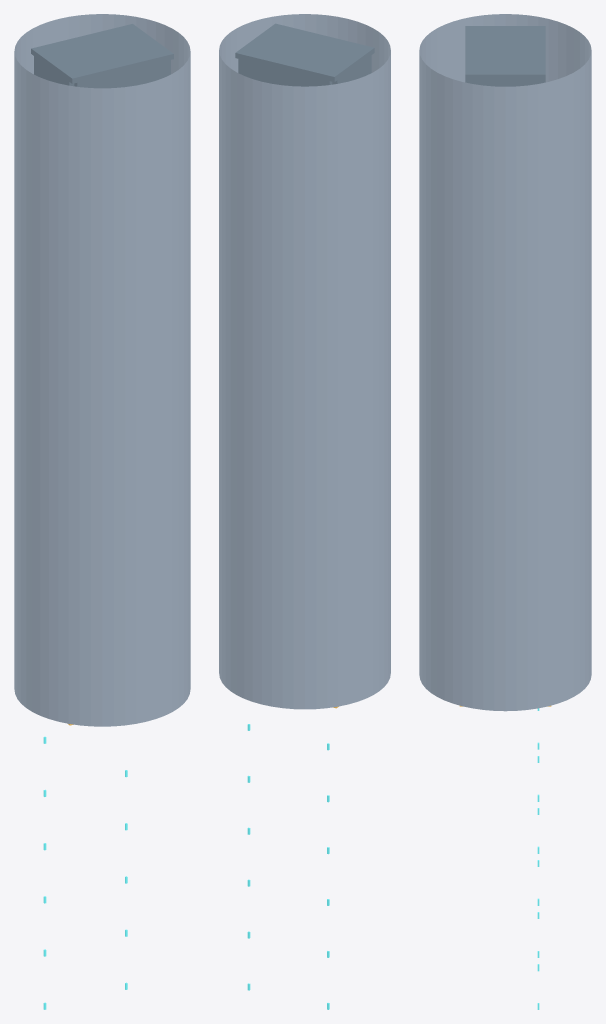
File: DockingCore.gltf
3 renders of one model, left to right at view 1: azimuth 30°, elevation 25°; view 2: azimuth 150°, elevation 25°; view 3: azimuth 270°, elevation 25°, orthographic. The views are drawn at different scales.
Visible parts, largest first — view 1: hull, tunnel; view 2: hull, tunnel; view 3: hull, tunnel.
Part boxes in pixels (x1,y1,x2,y2): hull: (14, 14, 190, 726); tunnel: (31, 24, 173, 88); hull: (219, 14, 390, 709); tunnel: (235, 23, 374, 86); hull: (419, 14, 591, 711); tunnel: (465, 26, 545, 86).
Size of the model in its own units: 30 by 181 by 30.
